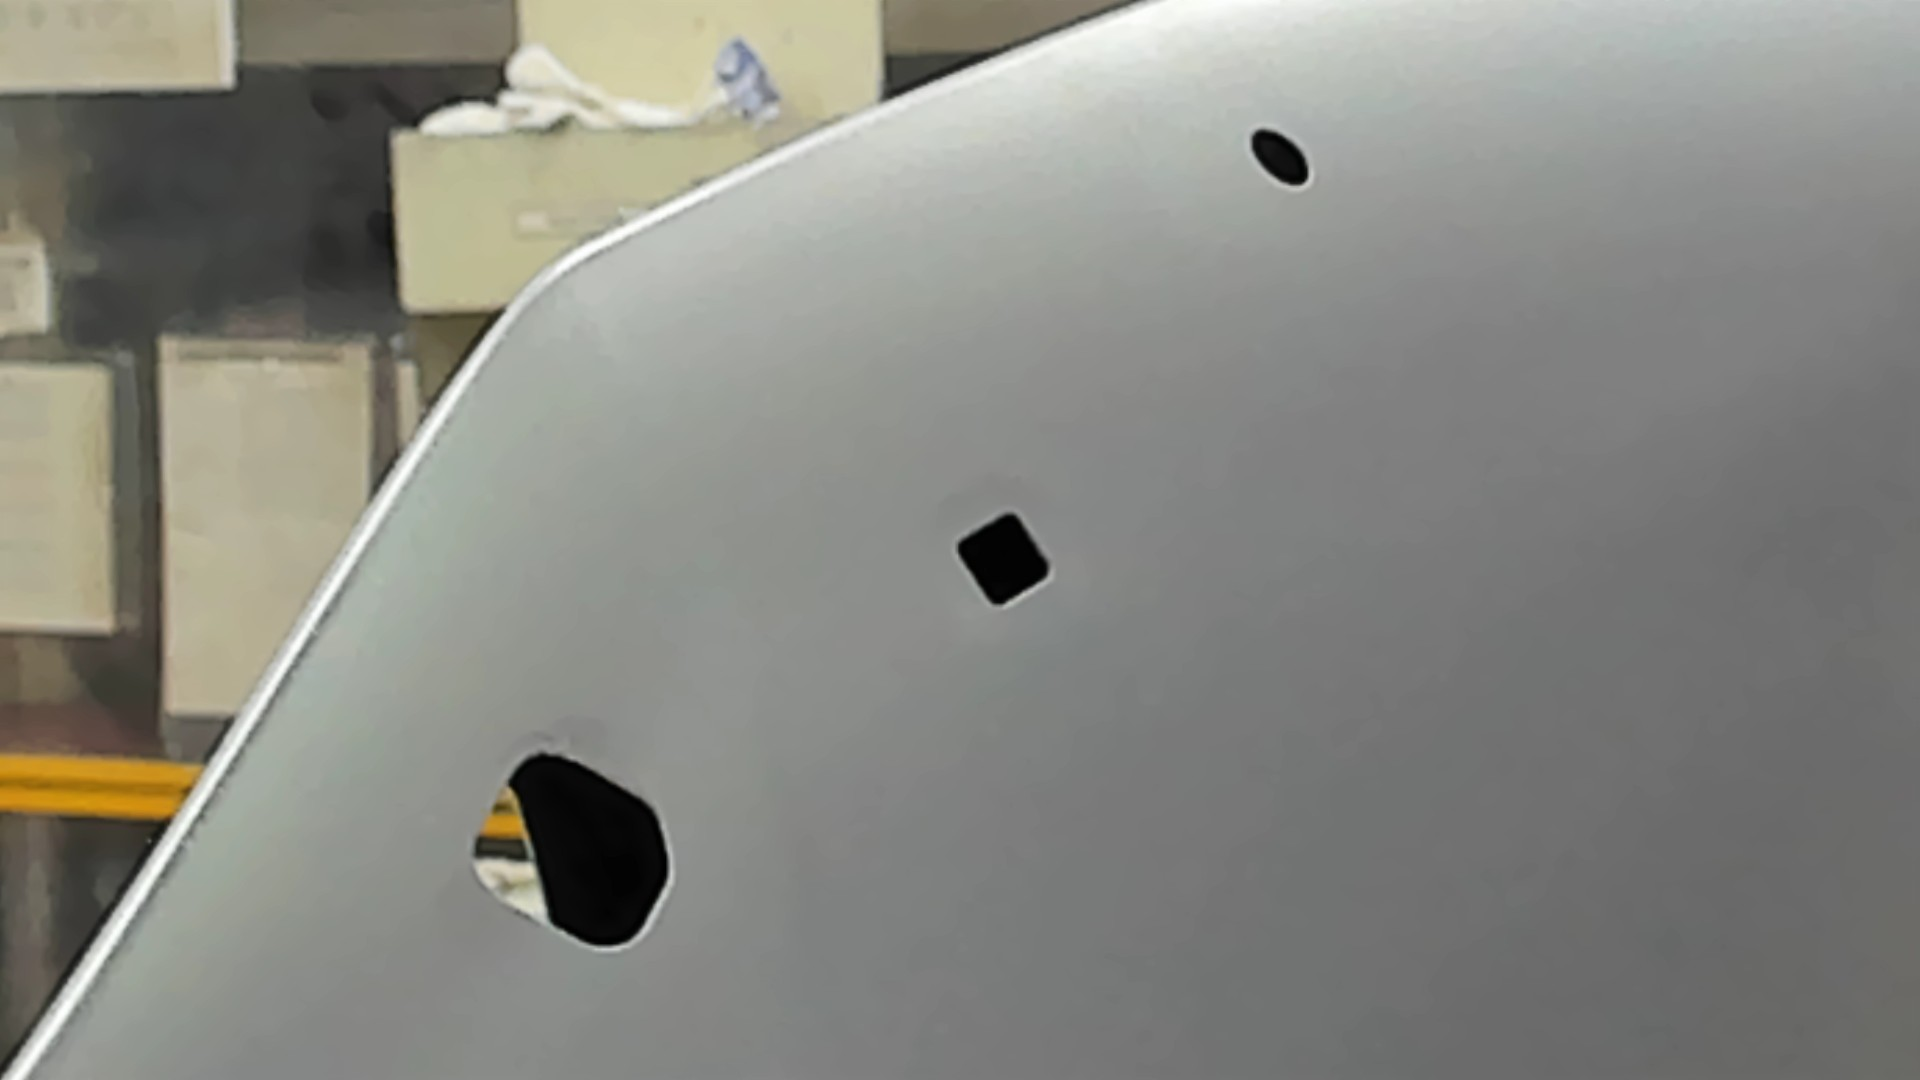chico: (1247, 123, 1312, 194)
grande: (463, 746, 683, 963)
mediano: (949, 502, 1060, 613)
